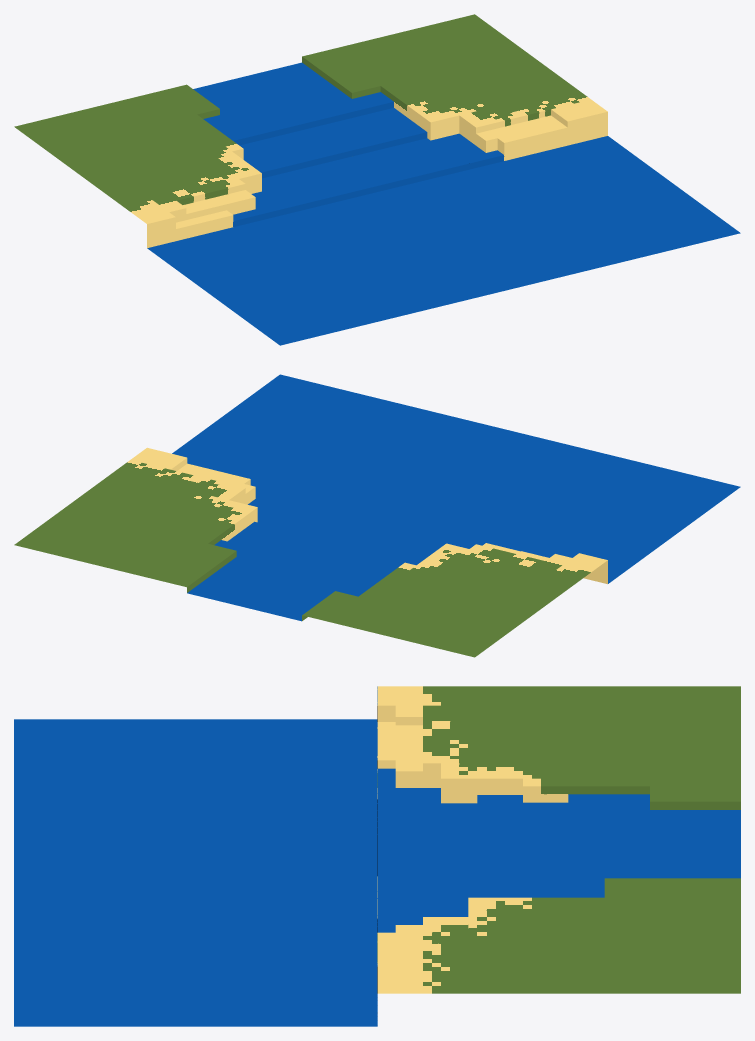
Rendered from LLWWR92(1).glb.
3 renders of one model, top to bottom at view 1: azimuth 30°, elevation 25°; view 2: azimuth 150°, elevation 25°; view 3: azimuth 270°, elevation 25°, orthographic. The views are drawn at different scales.
Parts seen in each view (by area): view 1: model_0.046; view 2: model_0.046; view 3: model_0.046.
Part boxes in pixels (box(x1,y1,x2,y2)): model_0.046: box(14, 14, 740, 345); model_0.046: box(14, 374, 740, 657); model_0.046: box(14, 686, 740, 1026).
Size of the model in its own units: 80 by 4 by 80.
Materials: 1 (1 with a texture image).
